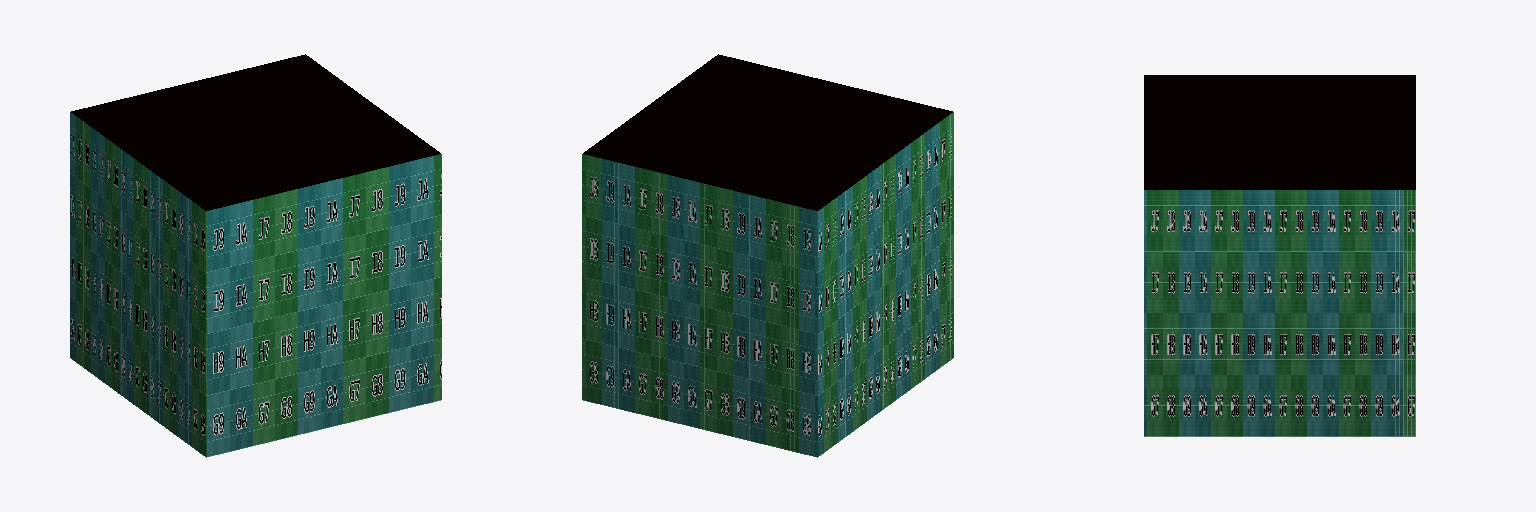
3 views of the same model, side by side, from view 1: azimuth 30°, elevation 25°; view 2: azimuth 150°, elevation 25°; view 3: azimuth 270°, elevation 25° (orthographic).
Parts seen in each view (by area): view 1: Cube; view 2: Cube; view 3: Cube.
Part boxes in pixels (x1,y1,x2,y2): Cube: (70,54,441,457); Cube: (582,54,953,457); Cube: (1144,75,1415,436).
Size of the model in its own units: 2.5 by 2.5 by 2.5.
3 materials, 2 textured.